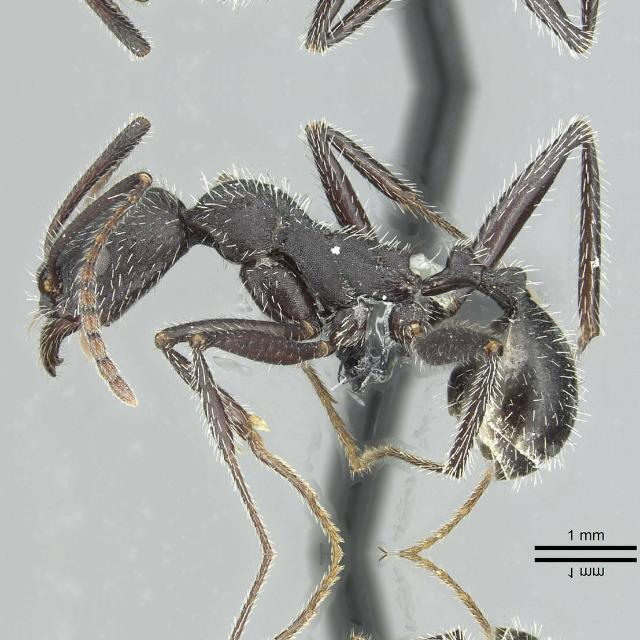Apheanogaster: (18, 102, 640, 548)
